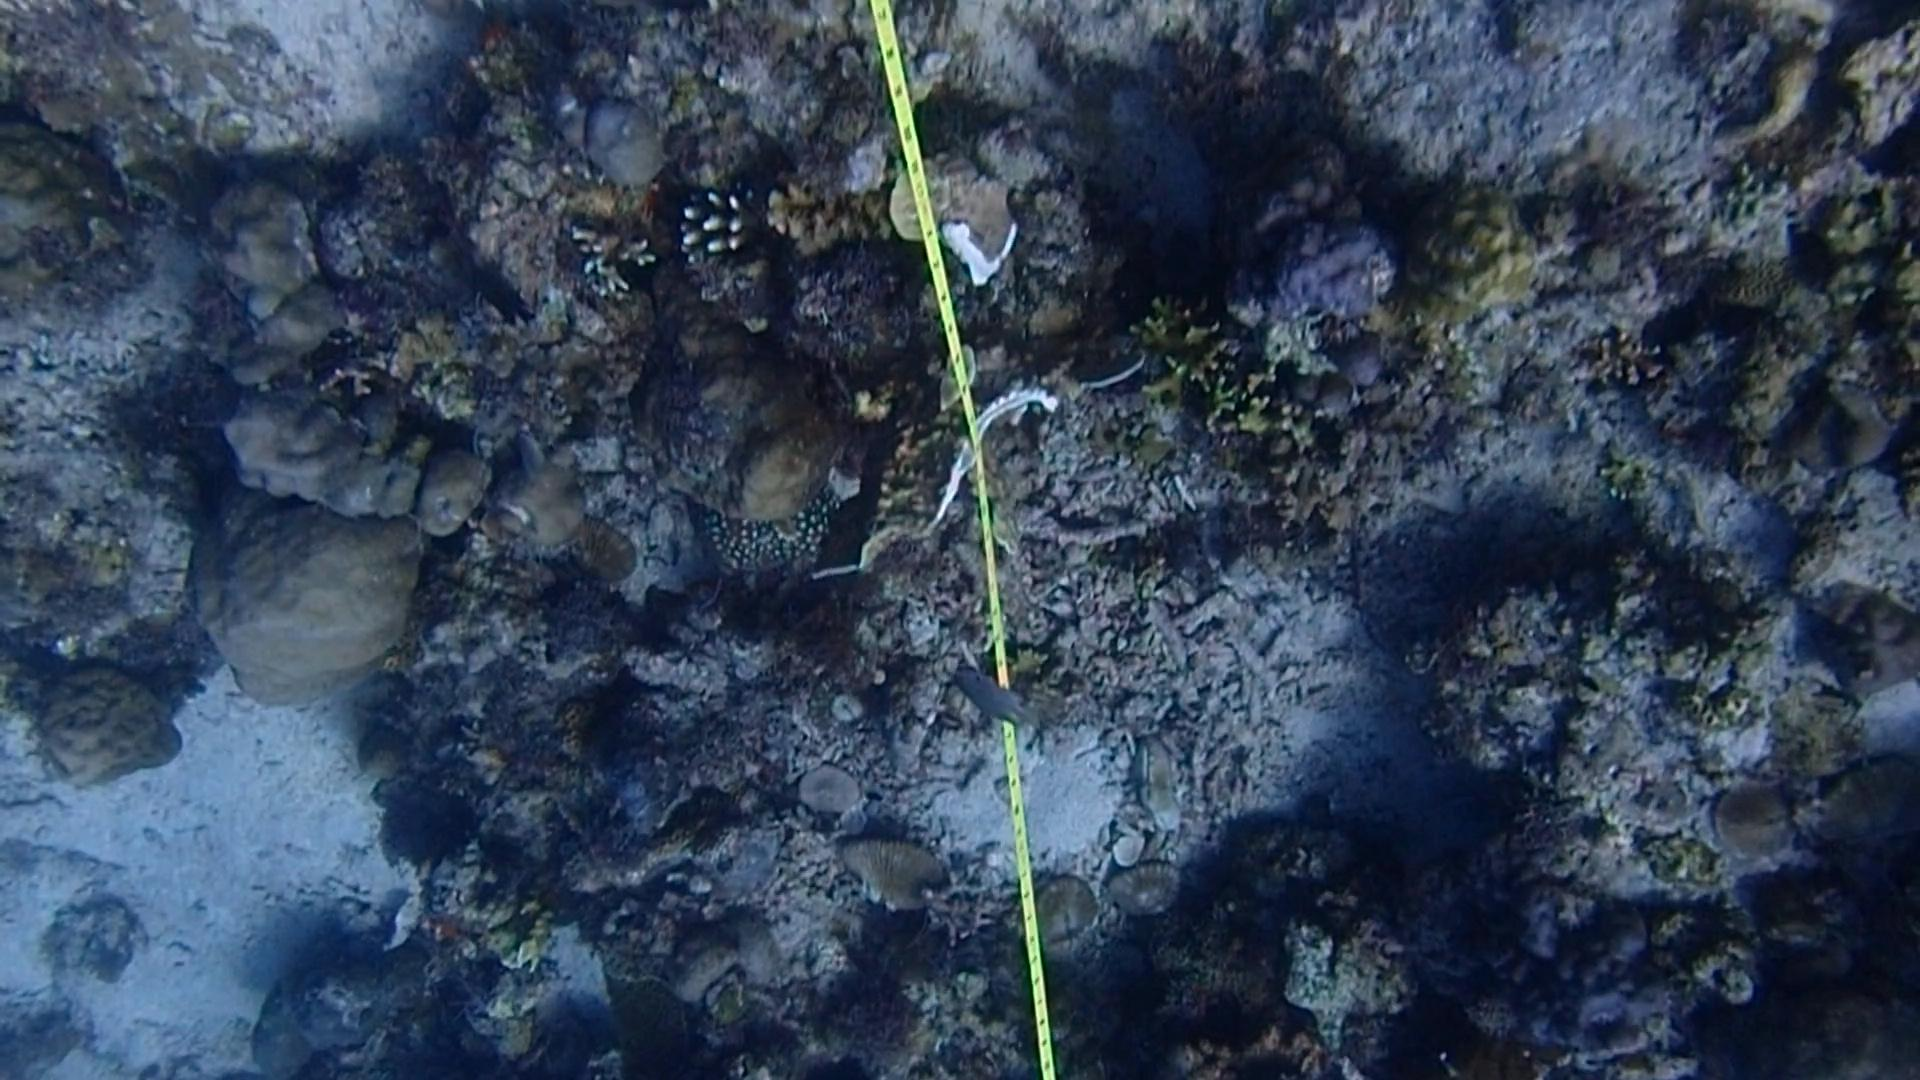Light Fish: (943, 654, 1047, 742)
